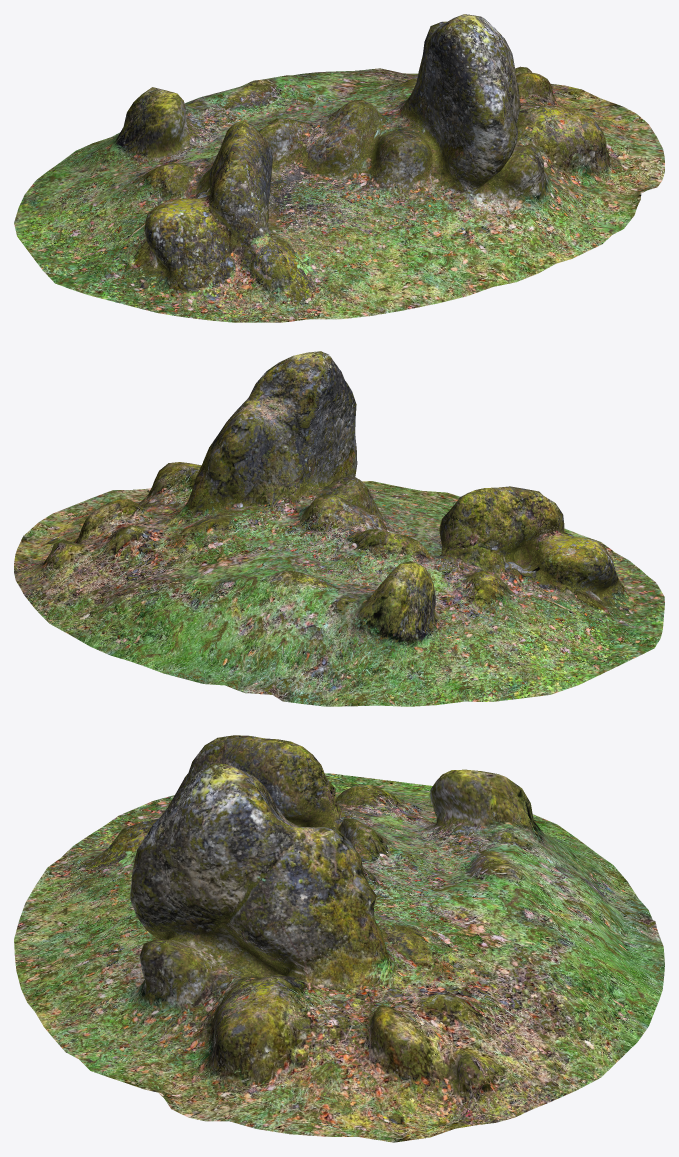
Rendered from Prop_Nature_Stone_x1.fbx.
3 renders of one model, top to bottom at view 1: azimuth 30°, elevation 25°; view 2: azimuth 150°, elevation 25°; view 3: azimuth 270°, elevation 25°, orthographic. The views are drawn at different scales.
Visible parts, largest first — view 1: Prop_Nature_Stone_x1; view 2: Prop_Nature_Stone_x1; view 3: Prop_Nature_Stone_x1.
Part boxes in pixels (<box>): Prop_Nature_Stone_x1: <box>14,14,664,322</box>; Prop_Nature_Stone_x1: <box>14,351,664,706</box>; Prop_Nature_Stone_x1: <box>14,735,664,1142</box>.
Size of the model in its own units: 271 by 83.7 by 204.
